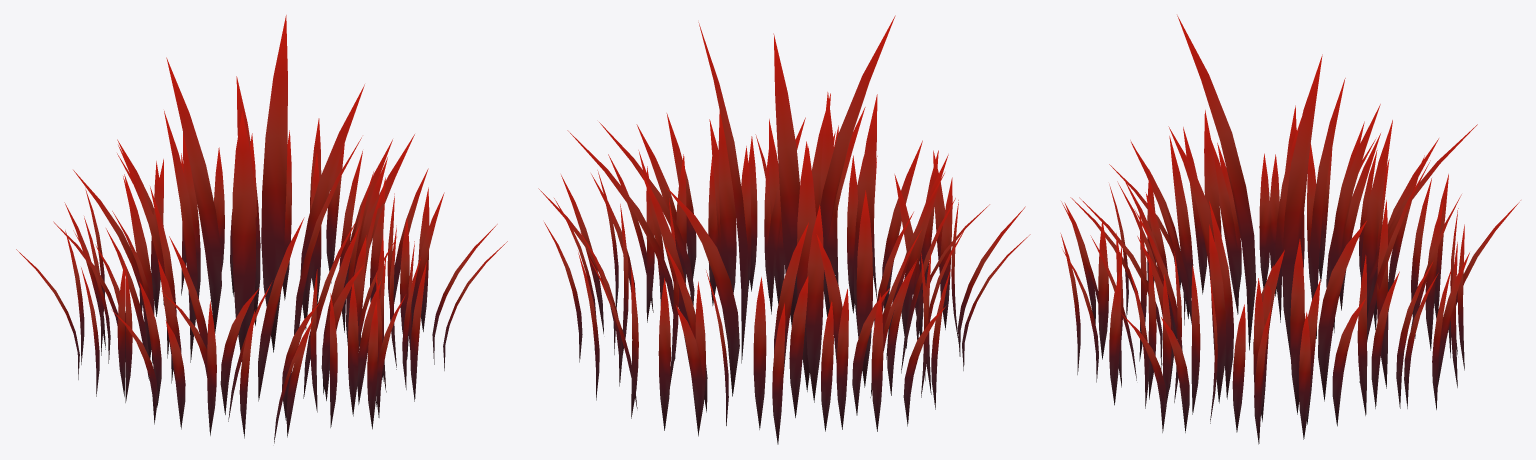
File: Grass01.fbx
3 views of the same model, side by side, from view 1: azimuth 30°, elevation 25°; view 2: azimuth 150°, elevation 25°; view 3: azimuth 270°, elevation 25° (orthographic). The views are drawn at different scales.
Parts seen in each view (by area): view 1: grass01; view 2: grass01; view 3: grass01.
Part boxes in pixels (<box>): grass01: <box>16,15,507,443</box>; grass01: <box>538,15,1030,444</box>; grass01: <box>1060,15,1520,444</box>.
Bounding box in the file's own units: 357 × 285 × 353.
